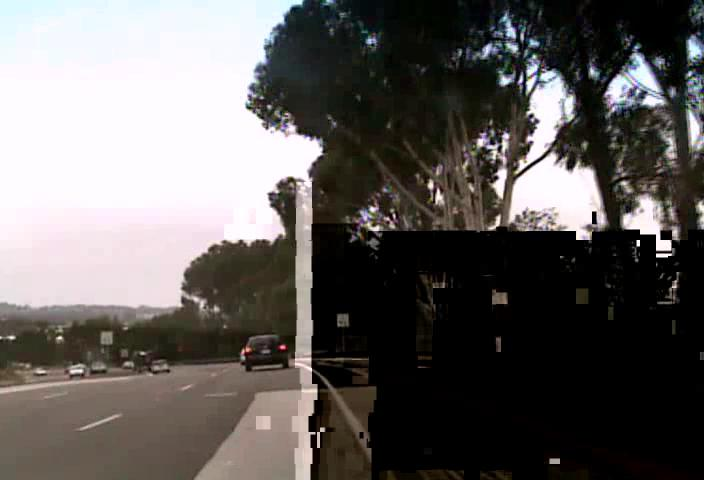speedLimitUrdbl: (100, 330, 113, 345)
